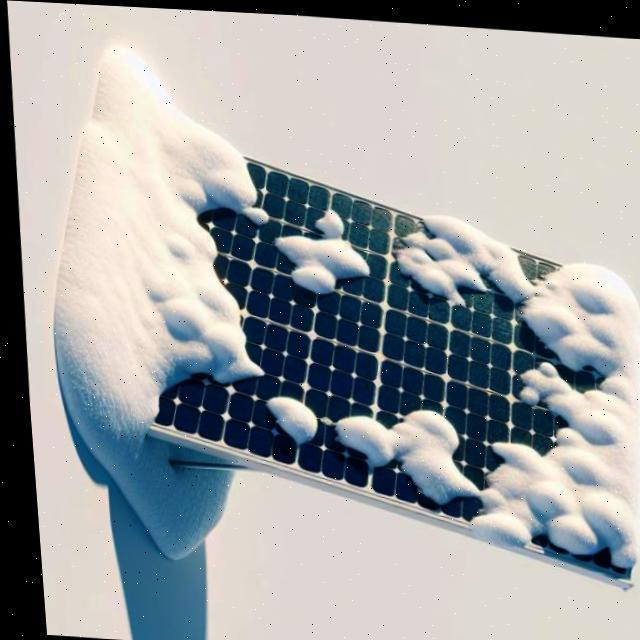Anomaly Solar Panel: (77, 124, 640, 579)
Snow: (316, 191, 640, 578), (43, 36, 271, 478), (266, 202, 368, 303), (257, 380, 322, 448)
